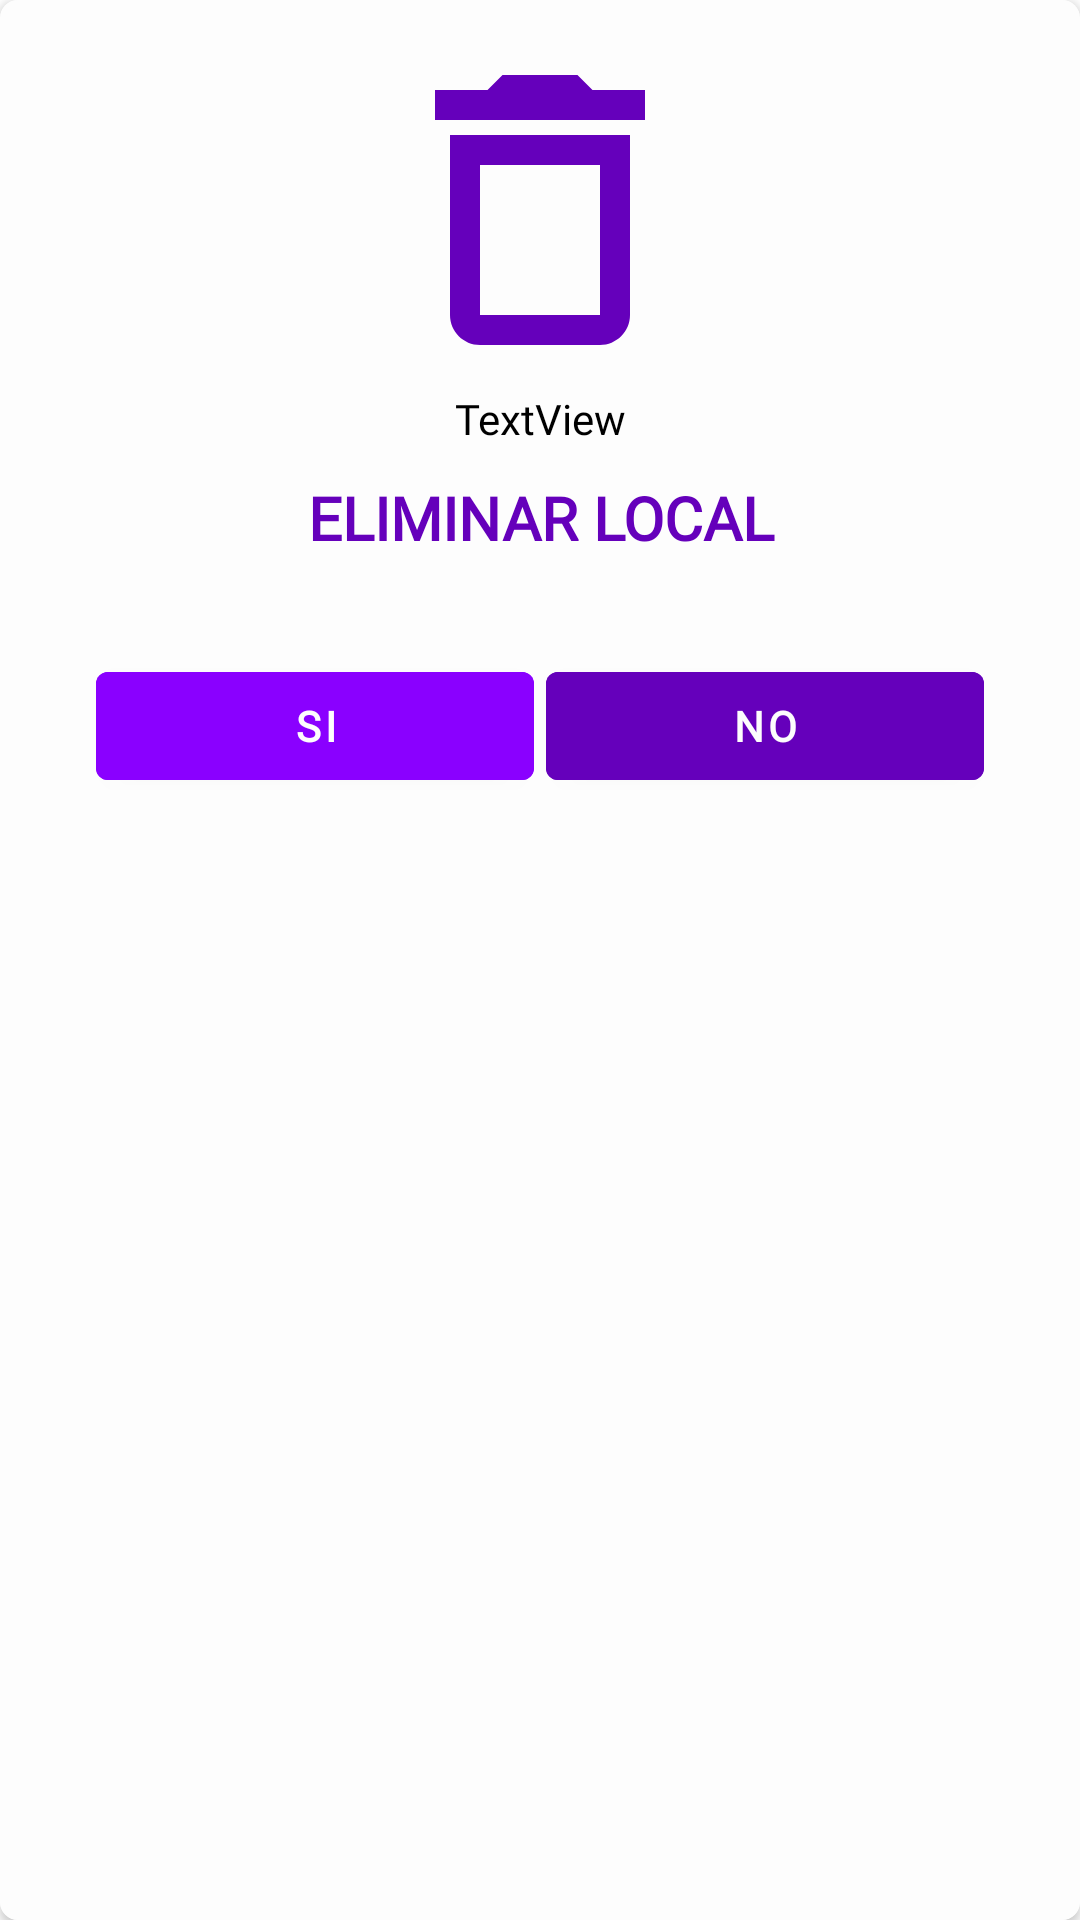

Named icons in this screenshot (1080px×1920px) and their centers, (x,y):
delete: (540,210)
